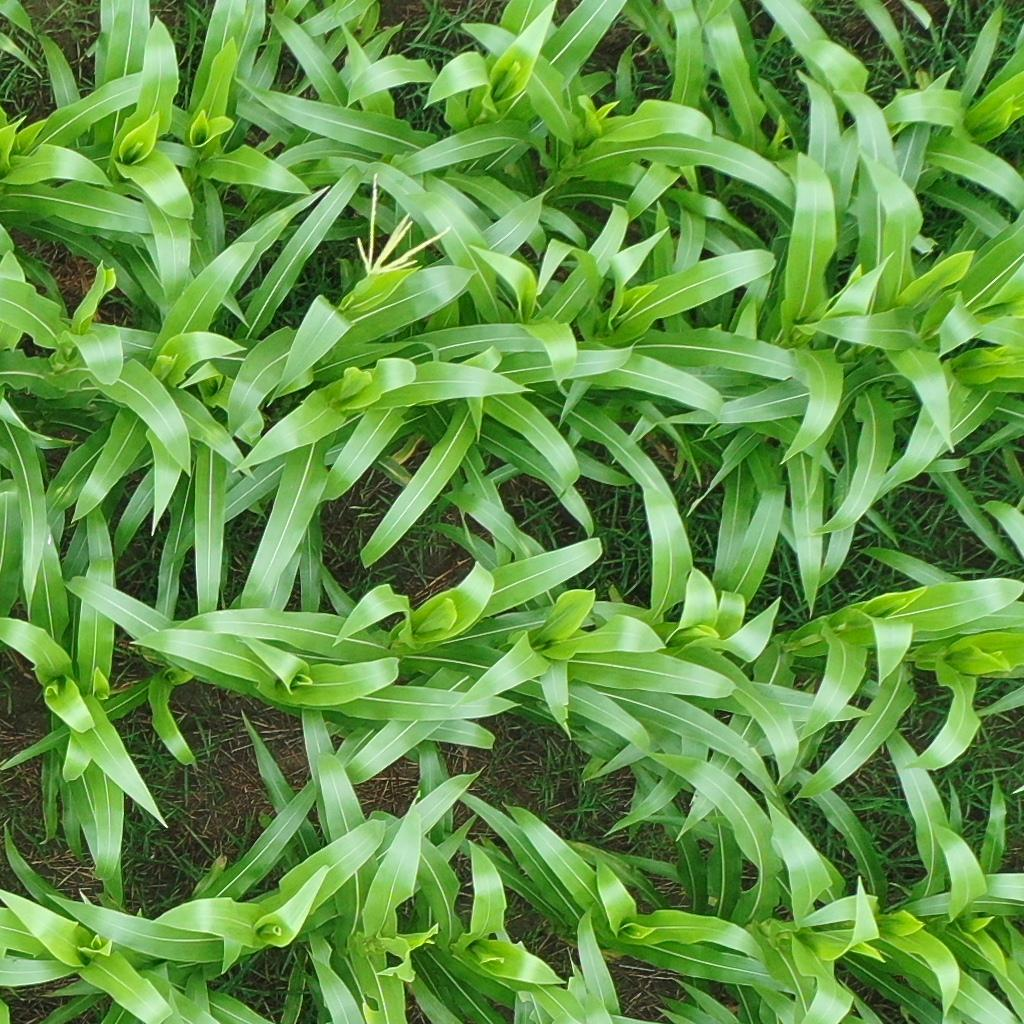Tassel: (349, 167, 451, 274)
